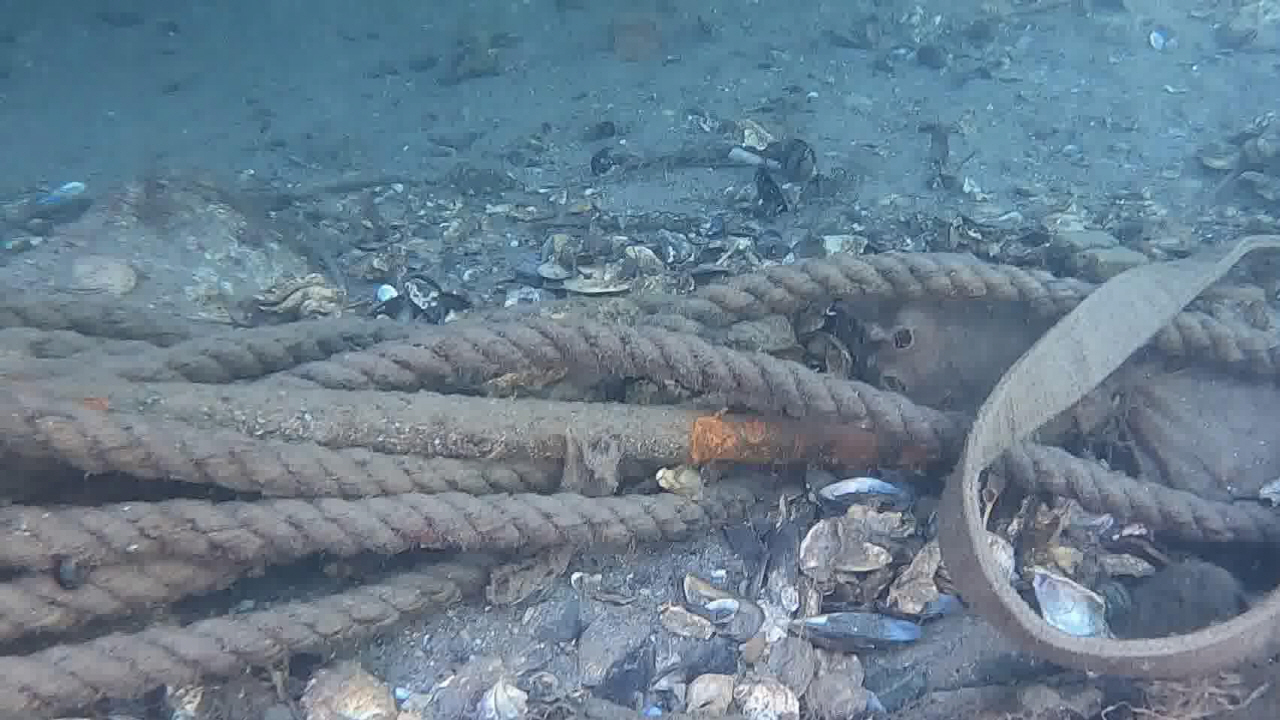bundle of ropes: (0, 248, 1280, 720)
